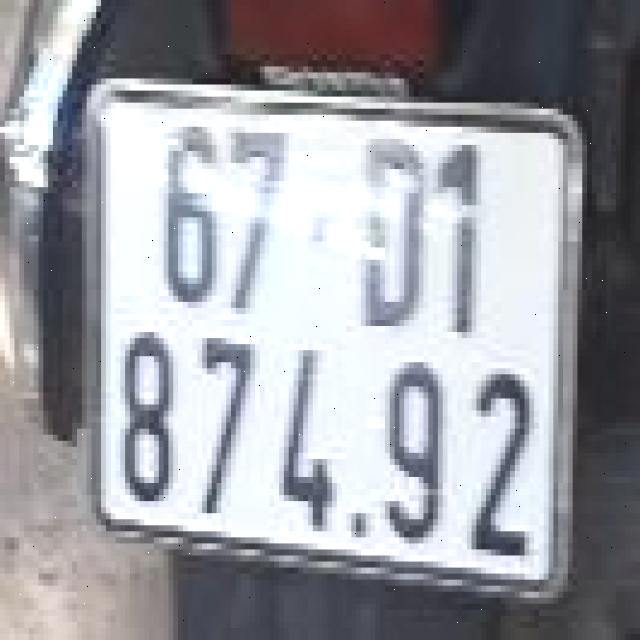1: (436, 139, 488, 338)
2: (464, 359, 532, 577)
4: (270, 338, 342, 537)
6: (156, 109, 219, 302)
7: (180, 314, 252, 537), (219, 118, 296, 323)
8: (111, 317, 178, 516)
9: (370, 360, 448, 558)
D: (349, 130, 431, 335)
